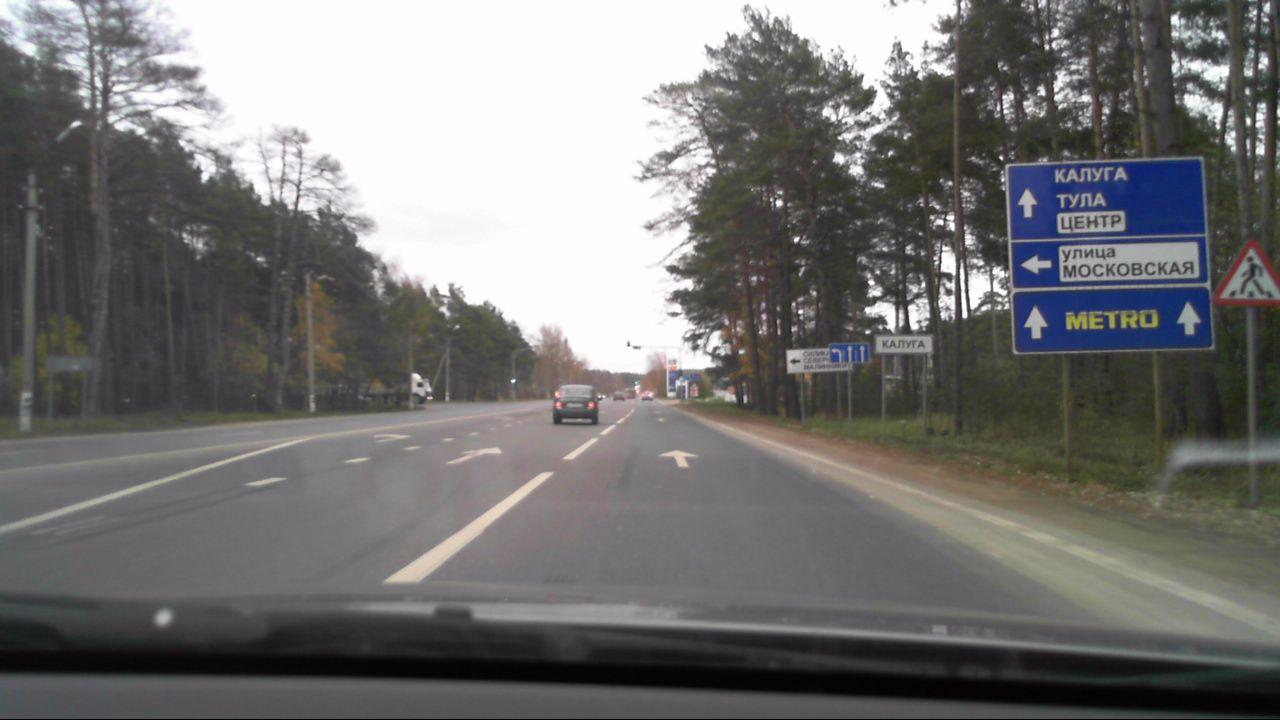5_15_1: (827, 341, 872, 365)
5_23_1: (875, 335, 933, 354)
6_10_1: (1001, 160, 1213, 349), (785, 349, 850, 372)
